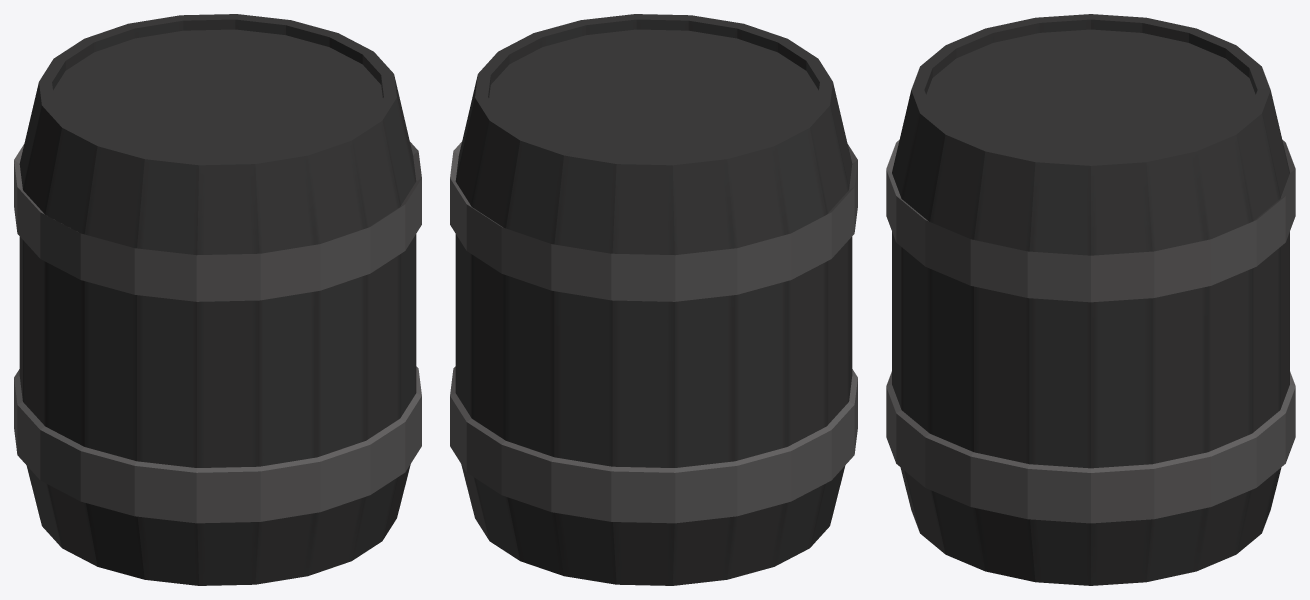
The model's file is Mesh_Barrel_TL.fbx.
3 renders of one model, left to right at view 1: azimuth 30°, elevation 25°; view 2: azimuth 150°, elevation 25°; view 3: azimuth 270°, elevation 25°, orthographic.
Parts seen in each view (by area): view 1: Mesh_Barrel_TL; view 2: Mesh_Barrel_TL; view 3: Mesh_Barrel_TL.
Boxes of the visible parts, x1,y1,x2,y2 form: Mesh_Barrel_TL: [14, 14, 421, 585]; Mesh_Barrel_TL: [450, 14, 857, 585]; Mesh_Barrel_TL: [886, 14, 1295, 585].
Size of the model in its own units: 107 by 121 by 107.
